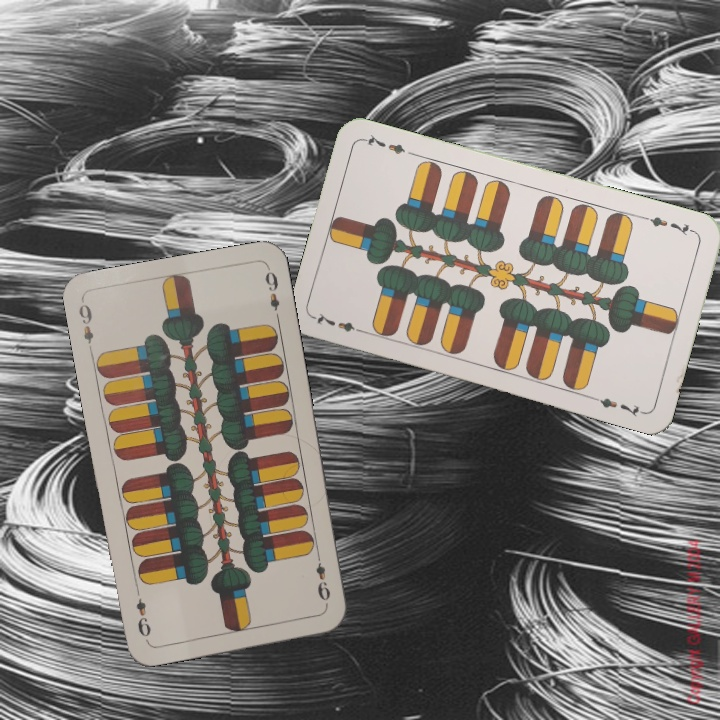E7: (311, 308, 369, 336), (640, 212, 698, 239)
E9: (74, 300, 96, 356), (311, 550, 333, 603)
